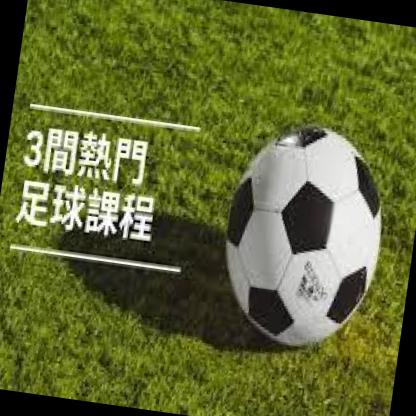ball: (211, 115, 394, 358)
